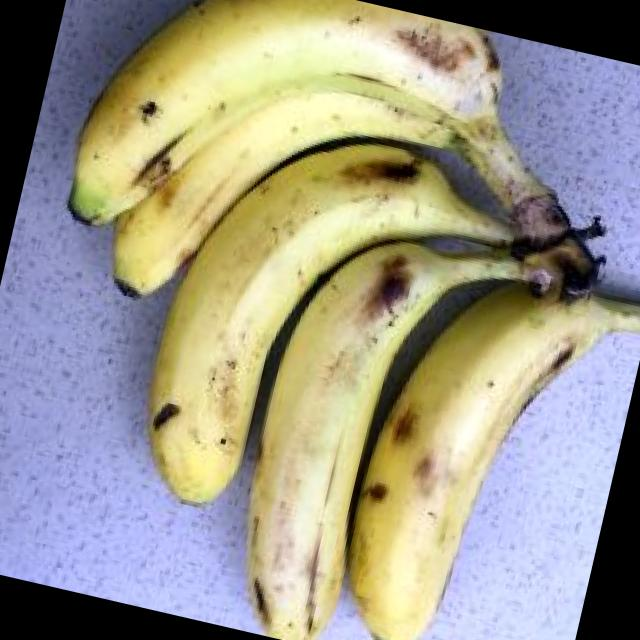banana: (73, 107, 618, 500)
